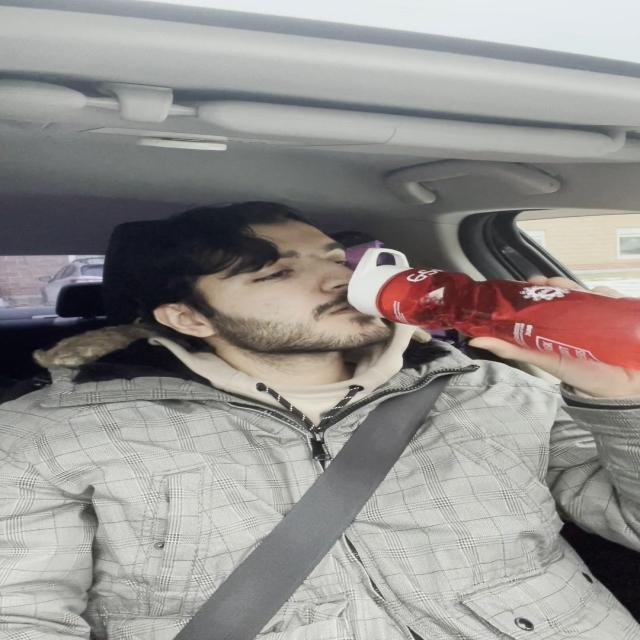no_seatbelt: (340, 244, 640, 358)
